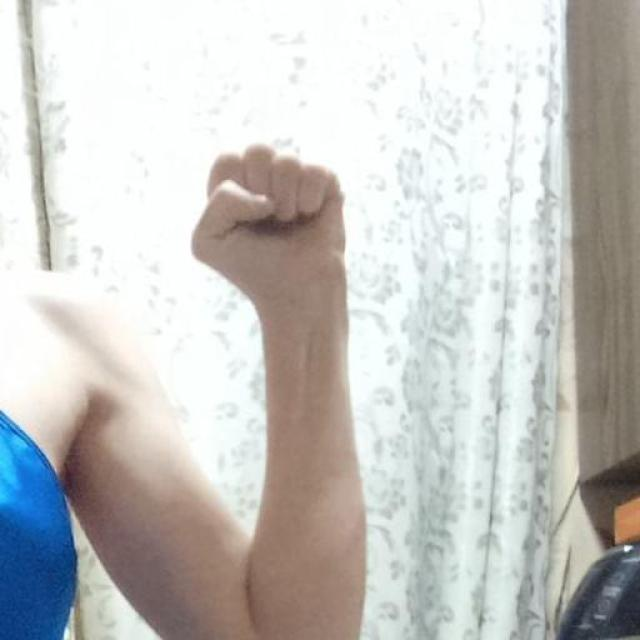hand: (189, 142, 349, 316)
